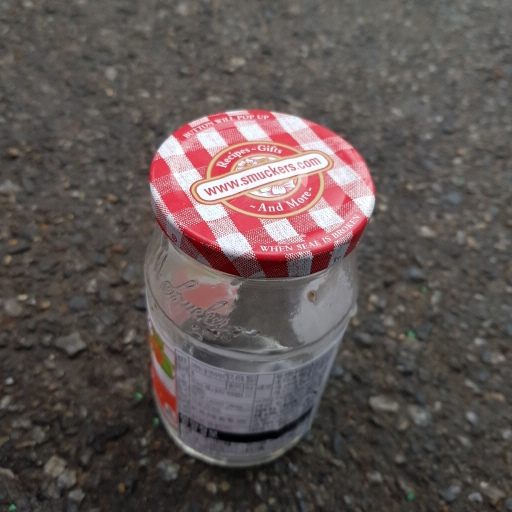Glass_5: (139, 107, 379, 470)
